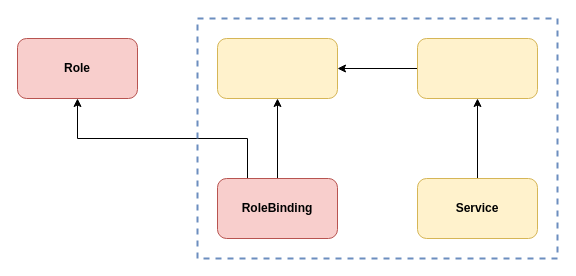
Some shapes in this 576 by 276 pixel diagram are drawn without their labels. Here are the shapes that lost their labels. From the top down, the centre of each, then its label:
At pixel 277 68: "ServiceAccount".
At pixel 477 68: "Deployment".
